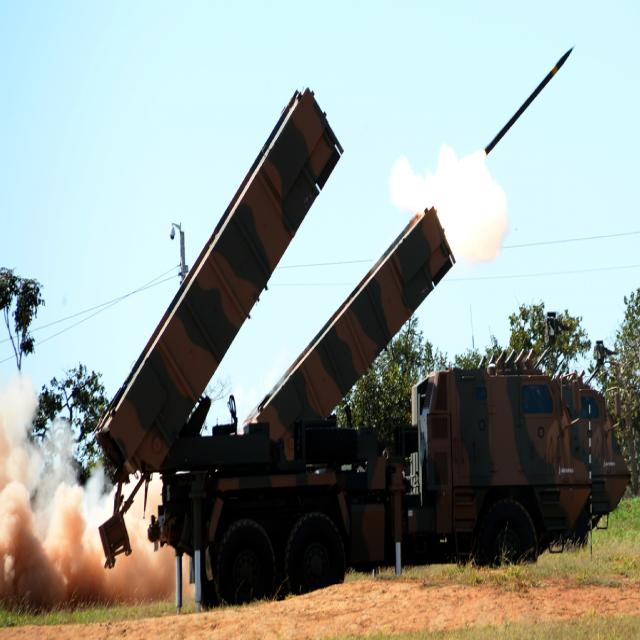rocket: (444, 44, 578, 218)
